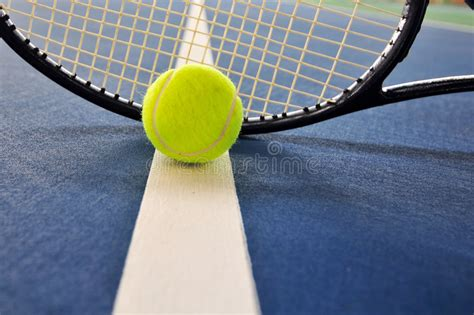tennis_ball: (142, 64, 243, 164)
